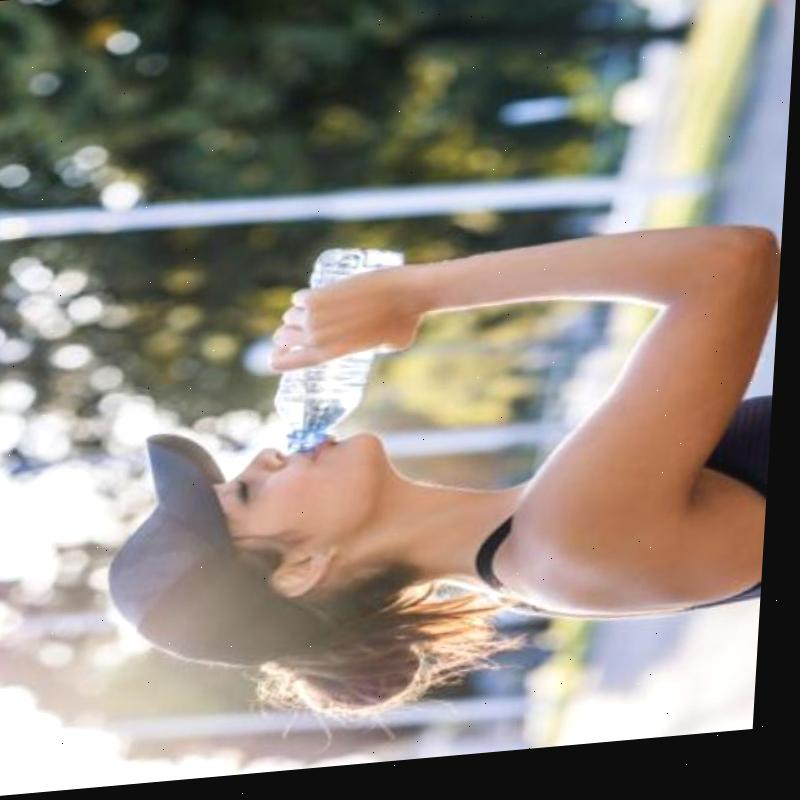botella: (275, 248, 414, 462)
